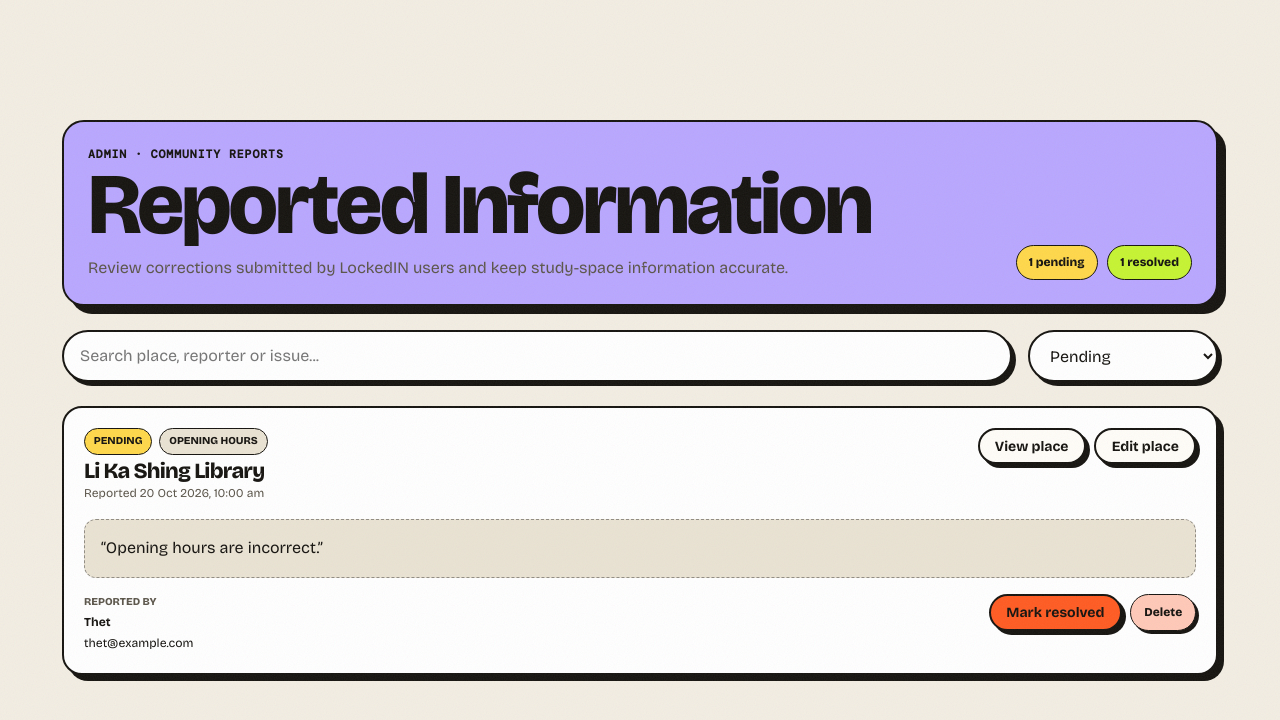
Test: AdminReportsView › can filter and show resolved reports
Select "Resolved" in the dropdown with class "reports-filter". click: {"x": 1123, "y": 356}
box: [1028, 330, 1218, 382]
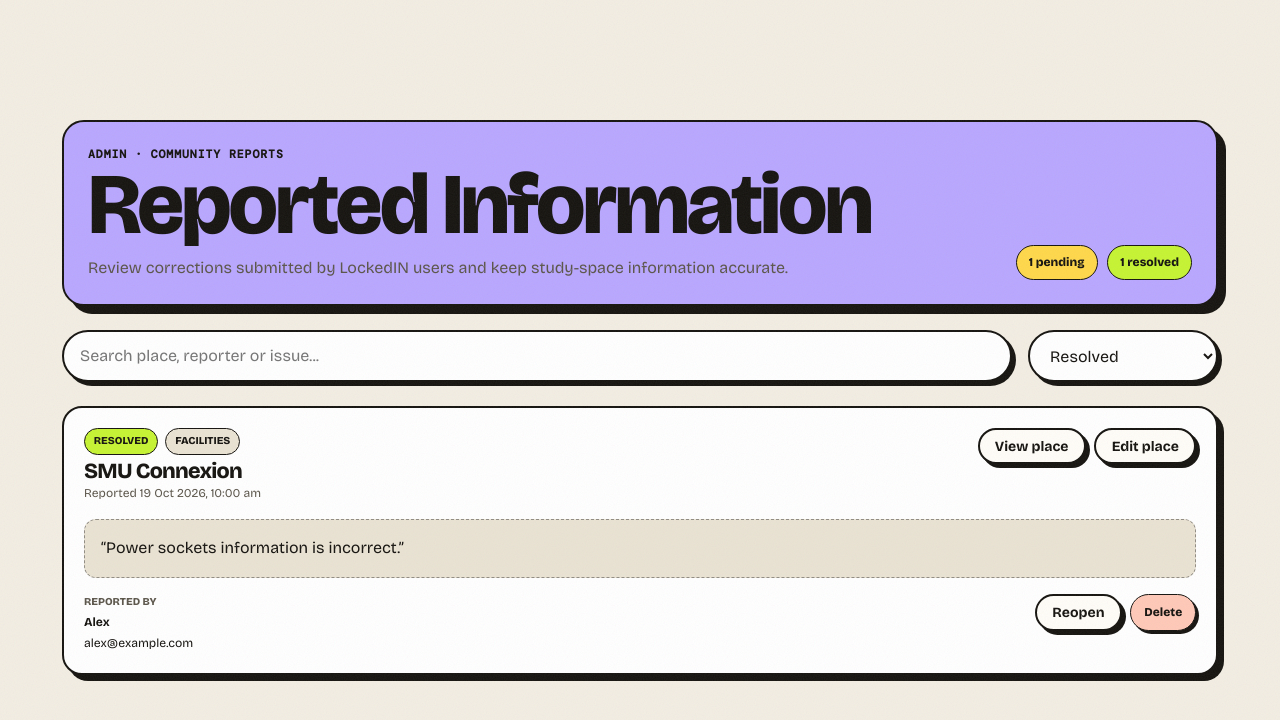
Now the text "SMU Connexion" is shown, box [84, 461, 261, 482]
Now the text "Li Ka Shing Library" is gone
